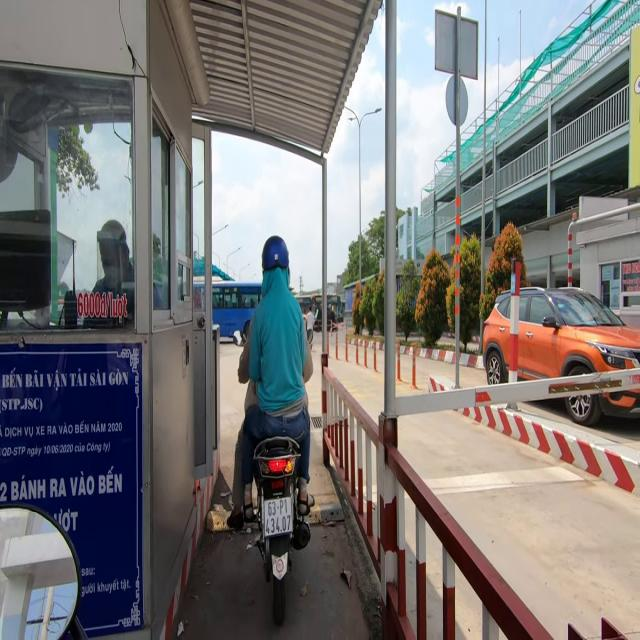bien_trang: (260, 496, 294, 538)
